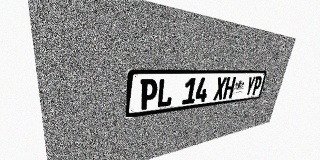1: (182, 78, 198, 105)
4: (194, 77, 210, 103)
H: (223, 77, 236, 99)
L: (156, 78, 174, 108)
P: (139, 79, 158, 110), (251, 76, 263, 95)
X: (213, 77, 227, 101)
Y: (244, 76, 256, 96)
